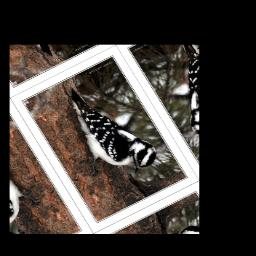Woodpecker: (44, 67, 162, 190)
